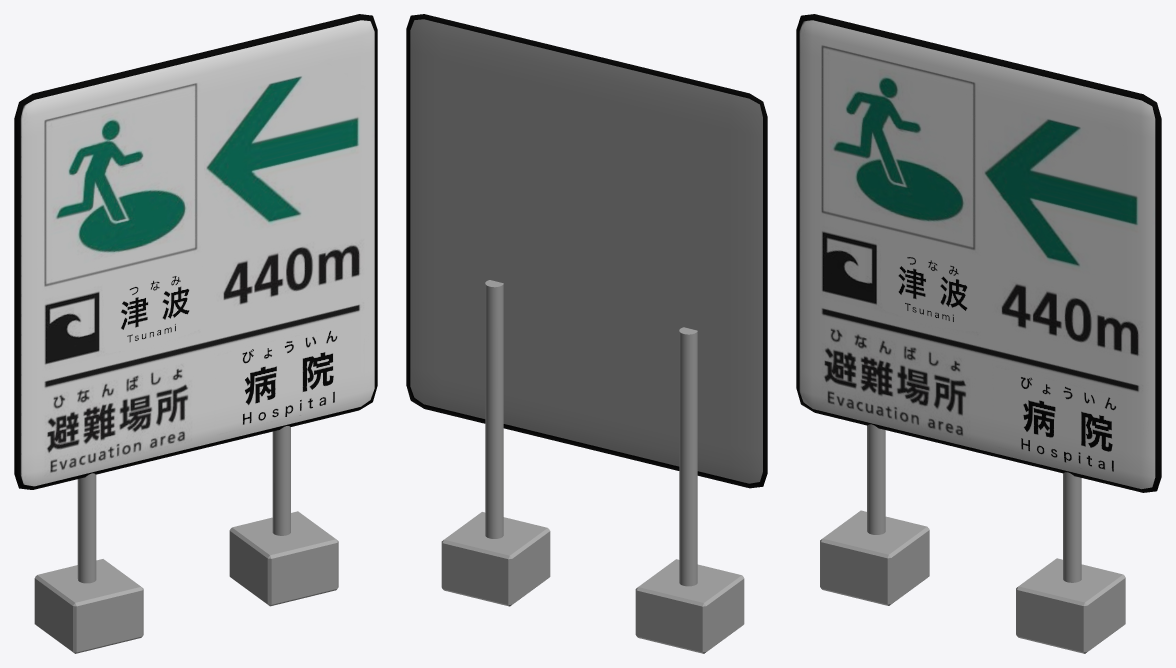
File: Hospital.fbx
The picture shows the model from 3 angles, left to right: view 1: azimuth 30°, elevation 25°; view 2: azimuth 150°, elevation 25°; view 3: azimuth 330°, elevation 25°; orthographic projection.
Visible parts, largest first — view 1: Hospital1; view 2: Hospital1; view 3: Hospital1.
Boxes of the visible parts, bbox=[...] form: Hospital1: bbox=[14, 14, 377, 653]; Hospital1: bbox=[406, 14, 767, 653]; Hospital1: bbox=[796, 14, 1161, 653].
Bounding box in the file's own units: 0.91 × 1.33 × 0.1779.
Materials: 3 (1 with a texture image).
